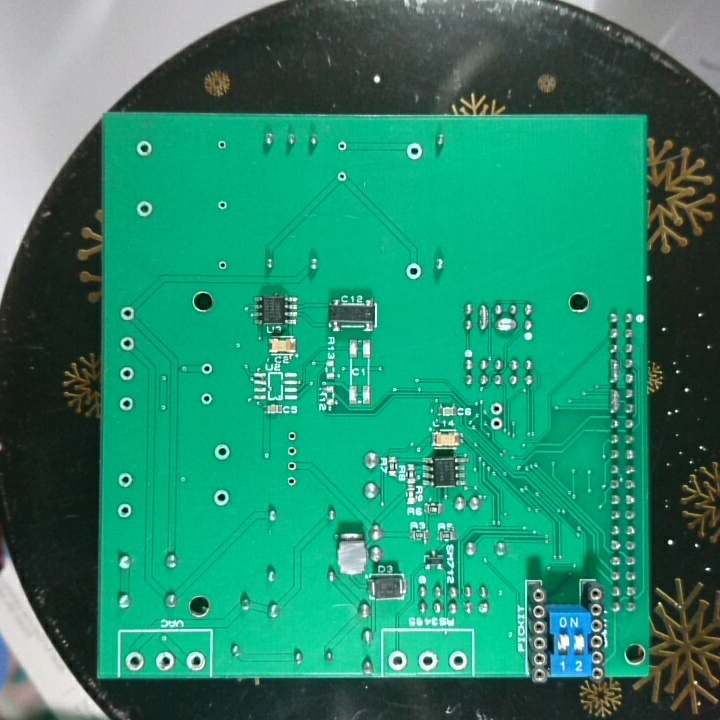F: (386, 647, 411, 674), (152, 648, 178, 673), (183, 649, 208, 673), (415, 648, 440, 672), (446, 648, 470, 673), (123, 650, 145, 675), (402, 260, 425, 283), (211, 486, 232, 510), (134, 198, 156, 220), (404, 140, 425, 163), (134, 138, 155, 161), (211, 442, 233, 463), (117, 392, 137, 415), (115, 499, 134, 522), (117, 363, 137, 384), (115, 471, 135, 491), (118, 303, 136, 324), (117, 335, 137, 353), (197, 360, 217, 378), (485, 415, 506, 432), (198, 389, 215, 408), (281, 443, 302, 458), (334, 138, 352, 155), (487, 399, 505, 416), (283, 474, 299, 492), (282, 429, 302, 443), (214, 137, 230, 153), (214, 197, 230, 213), (282, 459, 299, 474), (334, 168, 349, 184), (215, 258, 229, 275)
P: (476, 302, 492, 336), (494, 315, 517, 333), (607, 387, 621, 415), (607, 356, 620, 385)
